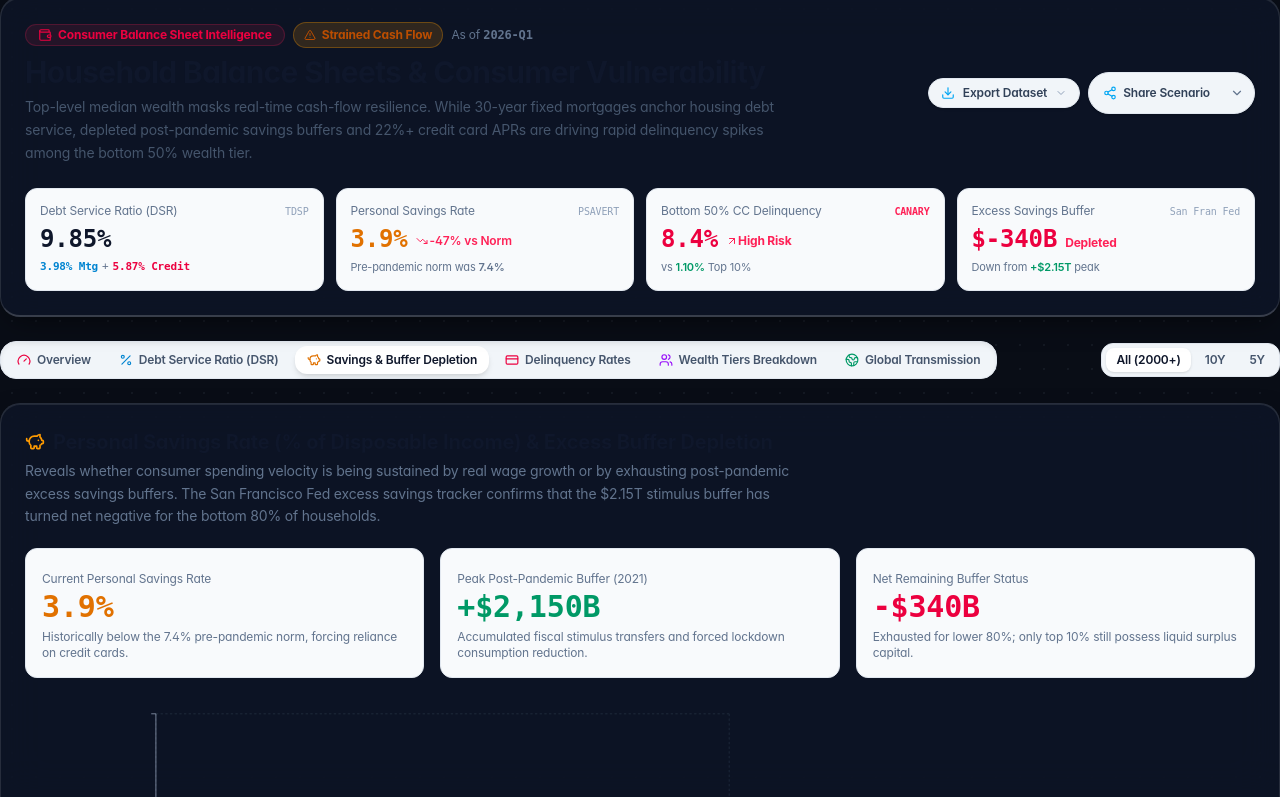
Test: HouseholdVulnerabilityRadar Component › switches to Delinquency Rates view
Click the button "Delinquency Rates" at (568, 360), box [493,346,643,374]
(page scrolled)
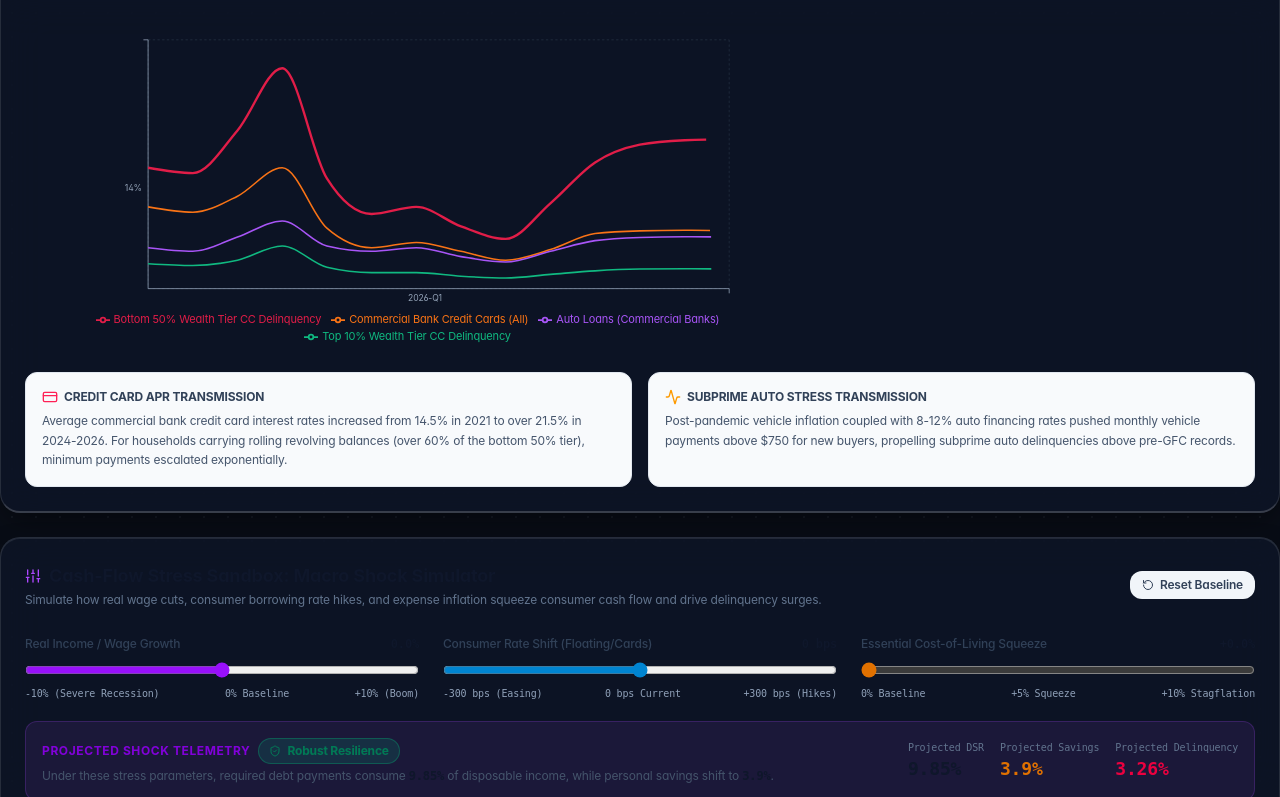
Check: the heading "Credit Card APR Transmission" is shown, box [42,389,264,405]
Check: the heading "Subprime Auto Stress Transmission" is shown, box [665,389,927,405]
